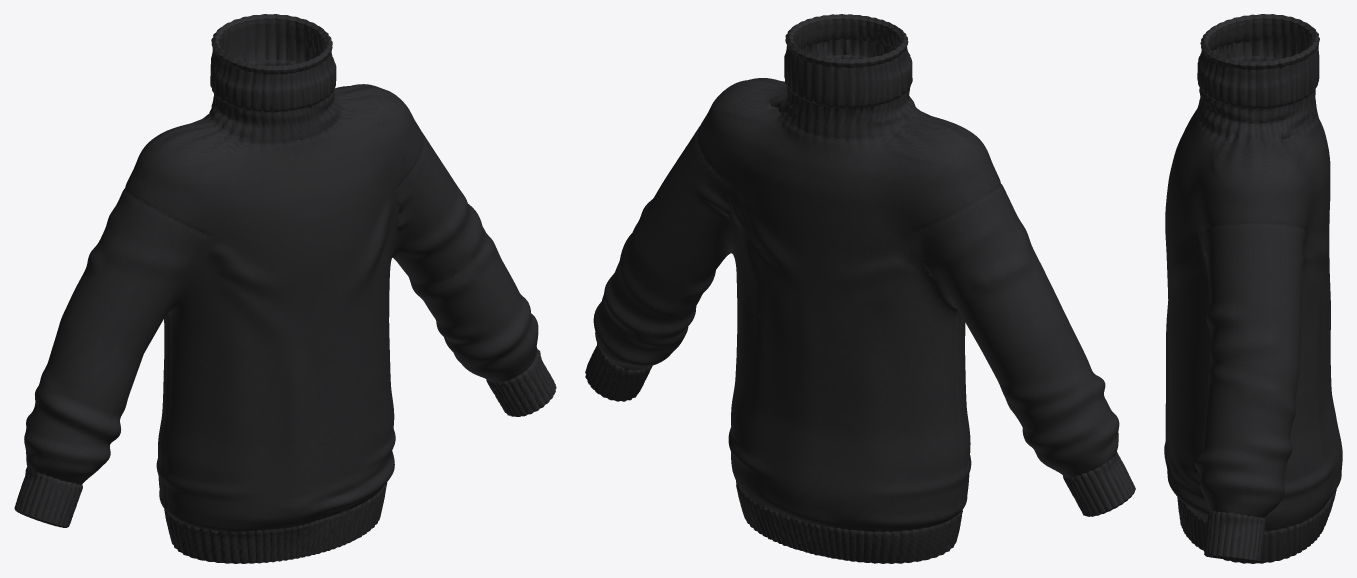
The model's file is 03_jersey_cuello_alto_pbr.glb.
3 views of the same model, side by side, from view 1: azimuth 30°, elevation 25°; view 2: azimuth 150°, elevation 25°; view 3: azimuth 270°, elevation 25° (orthographic). The views are drawn at different scales.
Parts seen in each view (by area): view 1: Camiseta PBR; view 2: Camiseta PBR; view 3: Camiseta PBR.
Boxes of the visible parts, x1=… form: Camiseta PBR: x1=14, y1=14, x2=556, y2=563; Camiseta PBR: x1=585, y1=14, x2=1135, y2=563; Camiseta PBR: x1=1164, y1=14, x2=1342, y2=563.
Size of the model in its own units: 0.9918 by 0.868 by 0.2913.
1 material, 1 textured.
